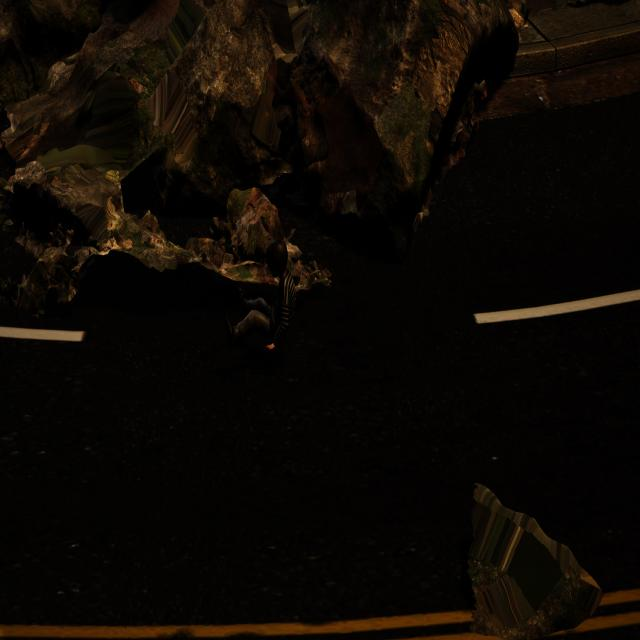Human: (220, 238, 299, 361)
